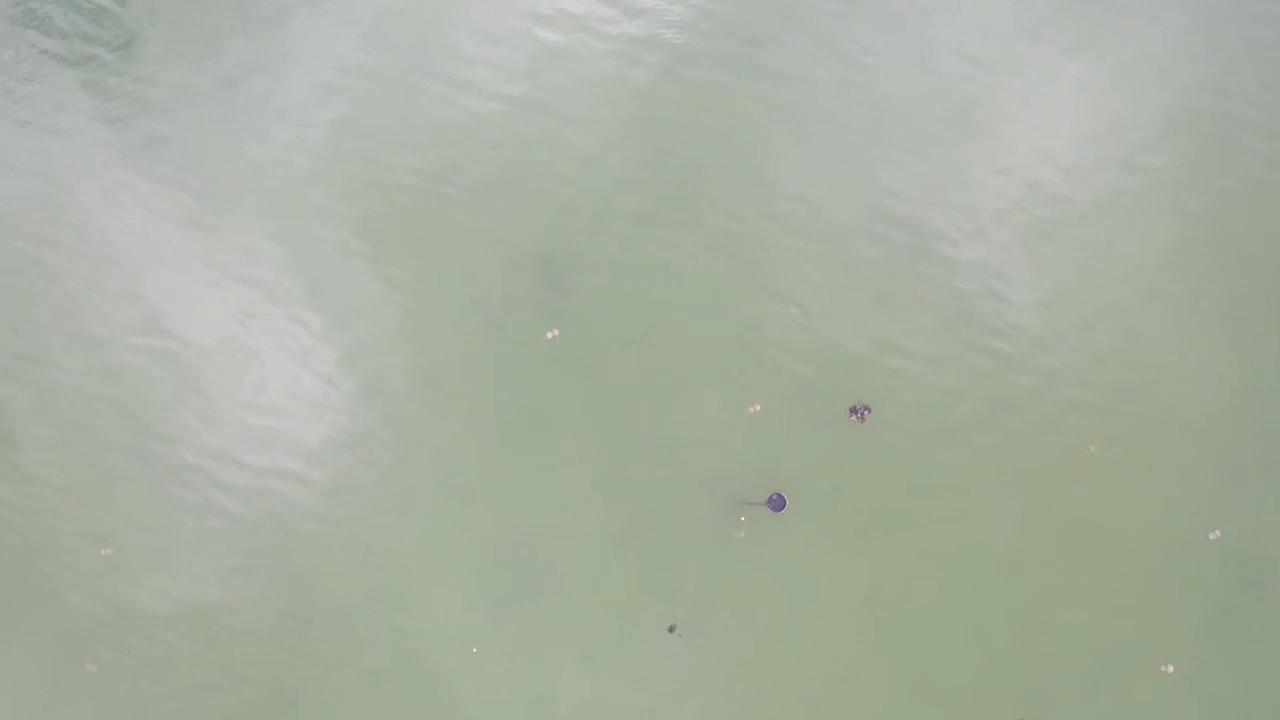meduse: (100, 545, 113, 558), (548, 326, 560, 340), (1162, 663, 1175, 675), (85, 661, 97, 674), (750, 404, 762, 416), (1208, 529, 1221, 540), (1084, 445, 1095, 457), (733, 530, 745, 540)
